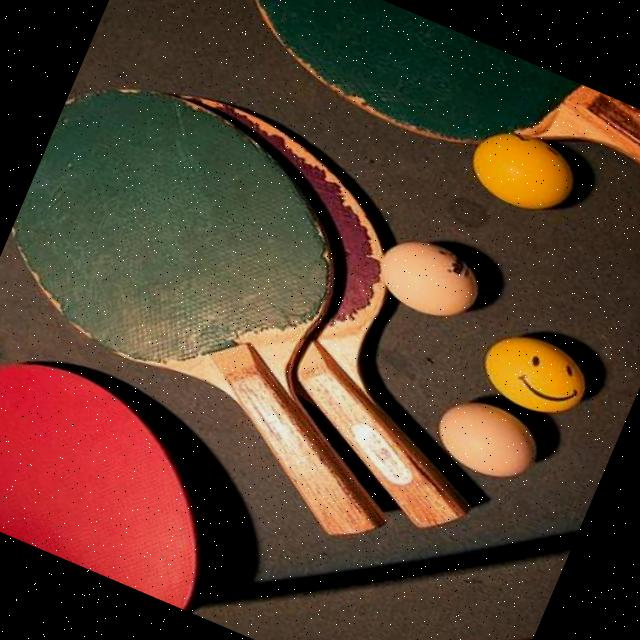ping-pong-ball: (472, 318, 600, 428), (460, 116, 586, 222), (426, 386, 550, 492), (368, 226, 492, 330)
